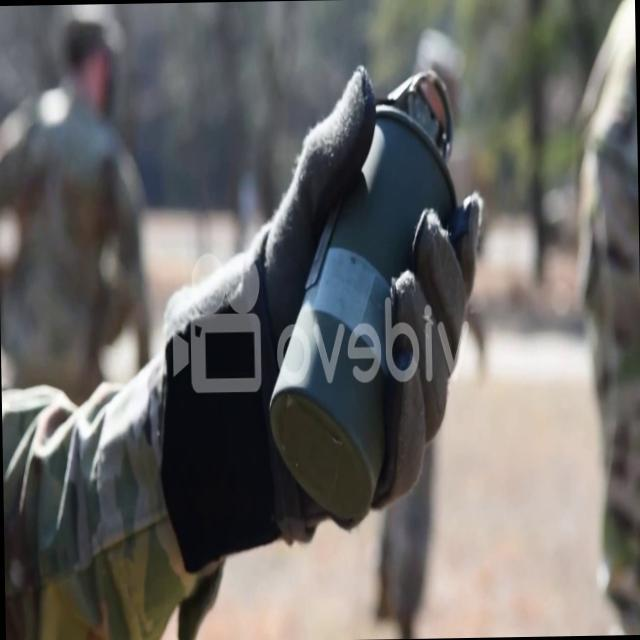grenade: (262, 59, 466, 526)
